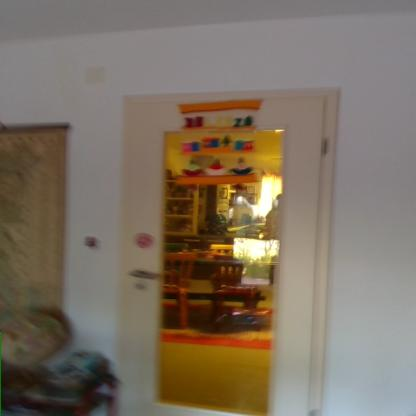closed: (108, 75, 357, 415), (1, 107, 77, 380)
